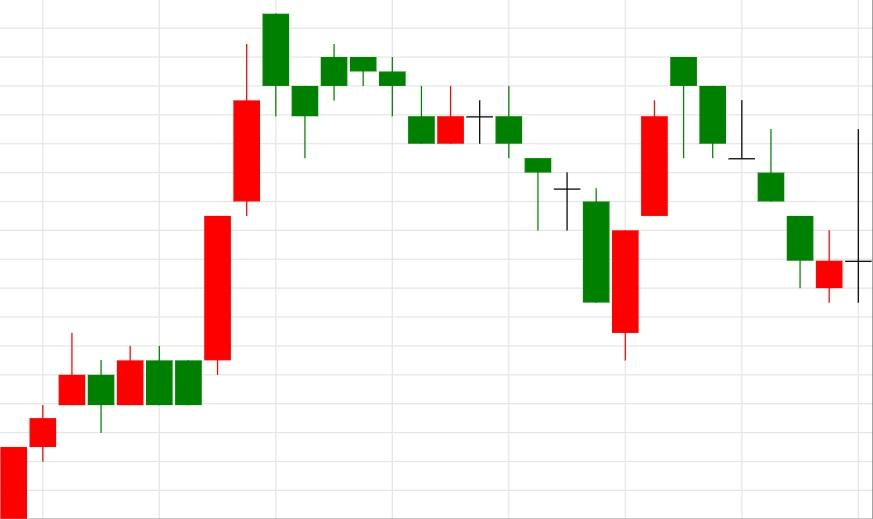hanging_man_fall: (610, 56, 698, 360)
three_black_crows_fall: (290, 44, 436, 158)
